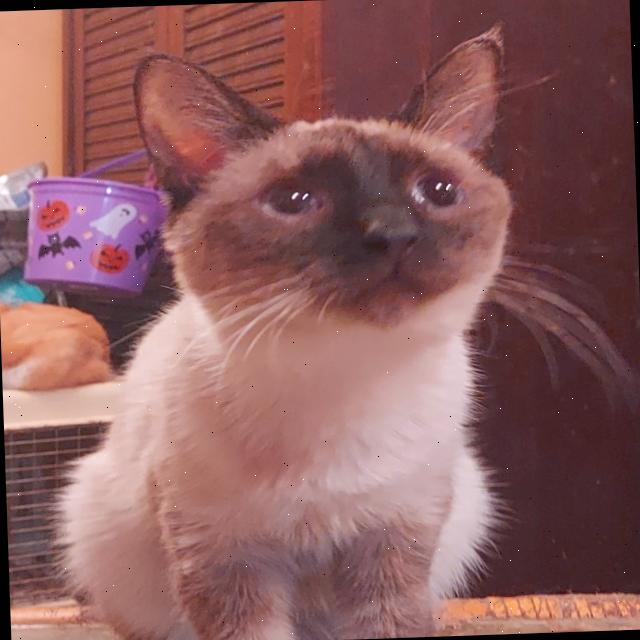siamese_cat: (116, 8, 537, 373)
